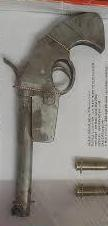gun: (1, 1, 108, 226)
